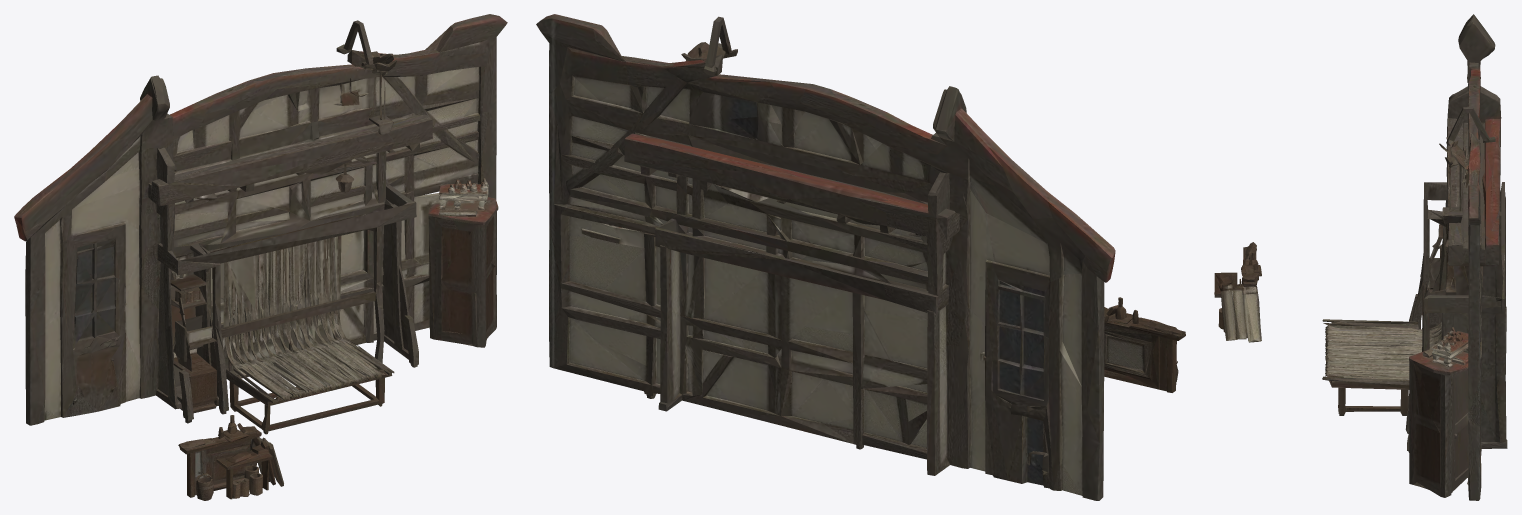
File: weberei.glb
3 views of the same model, side by side, from view 1: azimuth 30°, elevation 25°; view 2: azimuth 150°, elevation 25°; view 3: azimuth 270°, elevation 25° (orthographic). The views are drawn at different scales.
Visible parts, largest first — view 1: output_unwrapped; view 2: output_unwrapped; view 3: output_unwrapped.
Part boxes in pixels (x1=…): output_unwrapped: x1=14, y1=14, x2=507, y2=500; output_unwrapped: x1=536, y1=14, x2=1185, y2=500; output_unwrapped: x1=1214, y1=14, x2=1507, y2=500.
Bounding box in the file's own units: 1.9 × 1.23 × 0.9815.
1 material, 1 textured.
